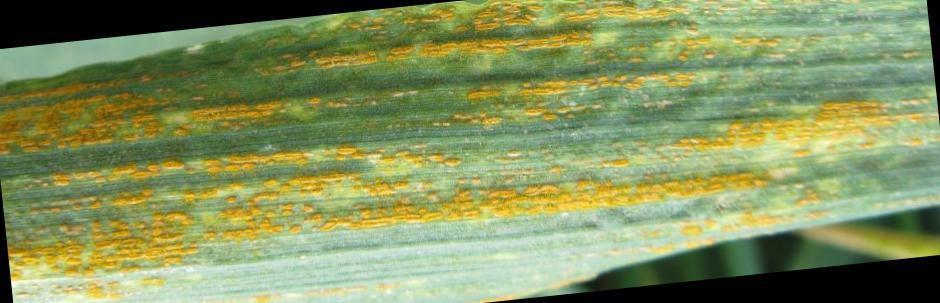Wheat: (14, 102, 546, 274), (310, 16, 630, 92), (725, 88, 917, 197), (557, 125, 720, 214)
